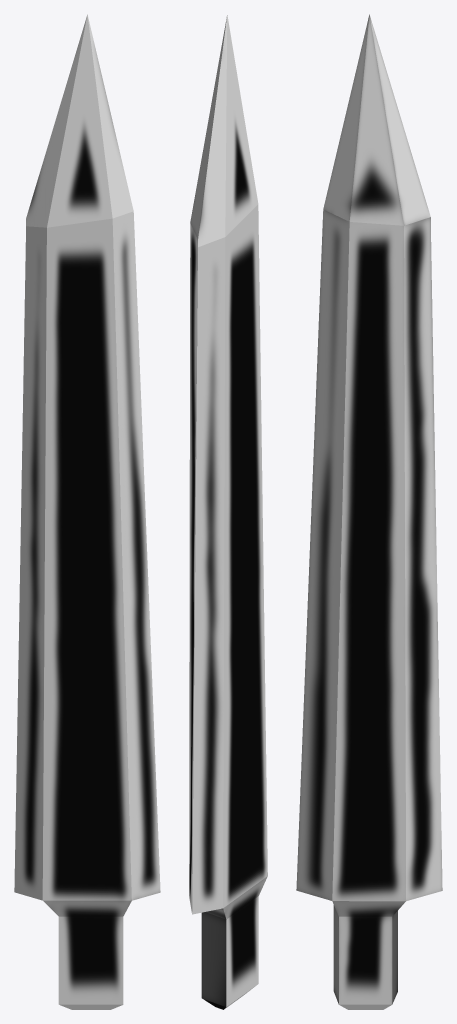
File: sword.fbx
The picture shows the model from 3 angles, left to right: view 1: azimuth 90°, elevation 25°; view 2: azimuth 150°, elevation 25°; view 3: azimuth 270°, elevation 25°; orthographic projection.
Parts seen in each view (by area): view 1: Cube.001; view 2: Cube.001; view 3: Cube.001.
Boxes of the visible parts, x1,y1,x2,y2 form: Cube.001: (14, 14, 160, 1009); Cube.001: (189, 15, 267, 1009); Cube.001: (296, 14, 442, 1009).
Bounding box in the file's own units: 4.29 × 105 × 14.04.
1 material, 1 textured.
